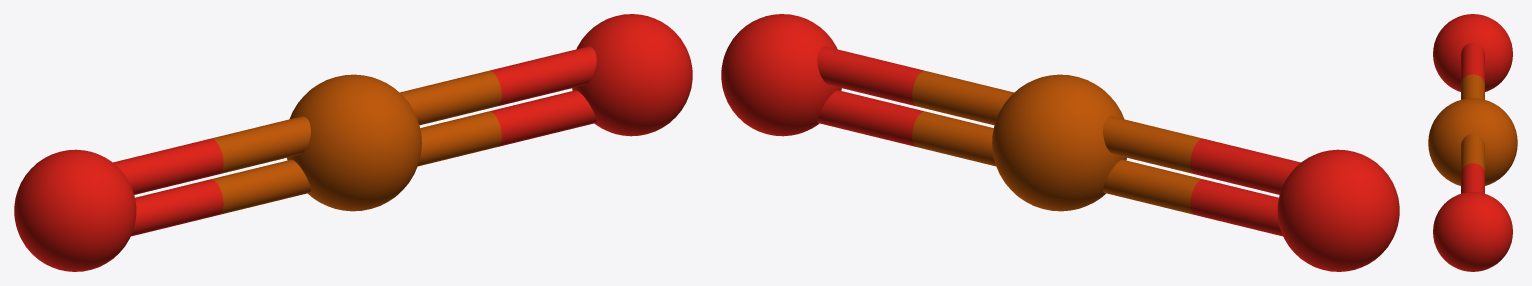
File: CarbonDioxide.glb
The picture shows the model from 3 angles, left to right: view 1: azimuth 30°, elevation 25°; view 2: azimuth 150°, elevation 25°; view 3: azimuth 270°, elevation 25°; orthographic projection. The views are drawn at different scales.
Size of the model in its own units: 2.85 by 0.51 by 0.51.
